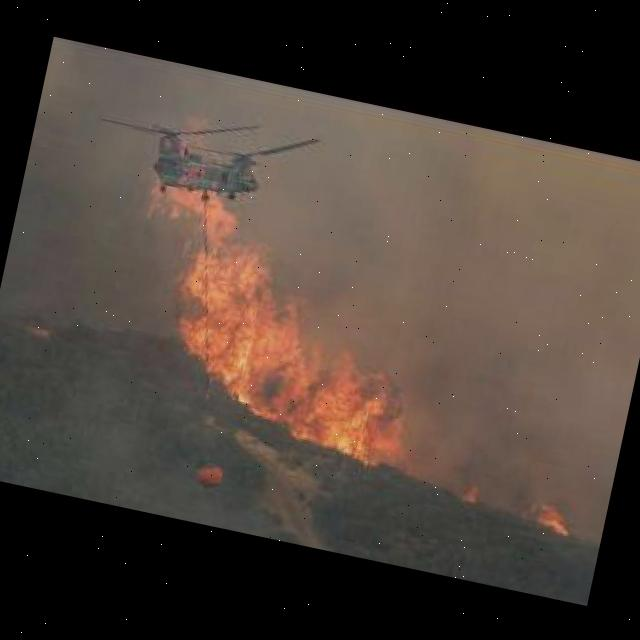fire: (98, 172, 458, 478), (525, 496, 577, 539), (458, 479, 482, 505)
